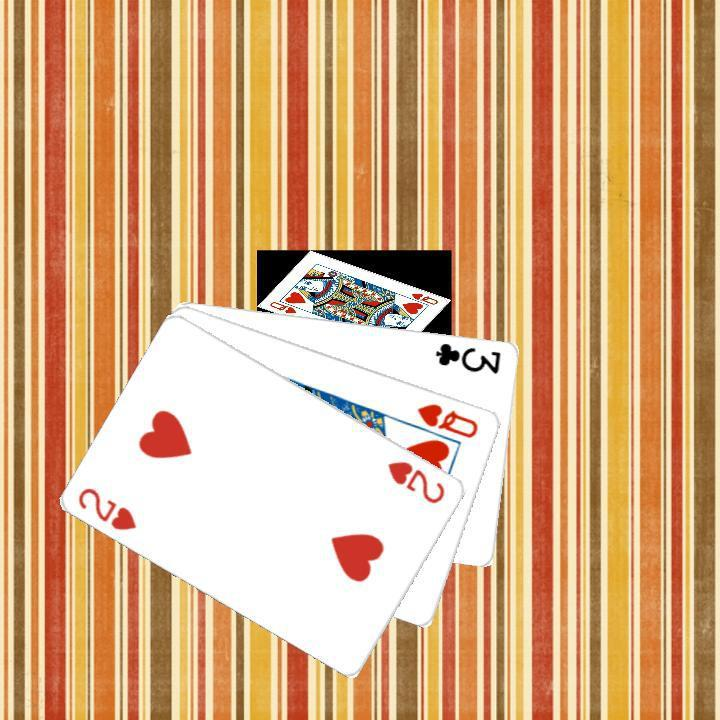2: (74, 483, 140, 533), (383, 456, 448, 506)
3: (432, 338, 503, 375)
Q: (413, 399, 481, 440)
